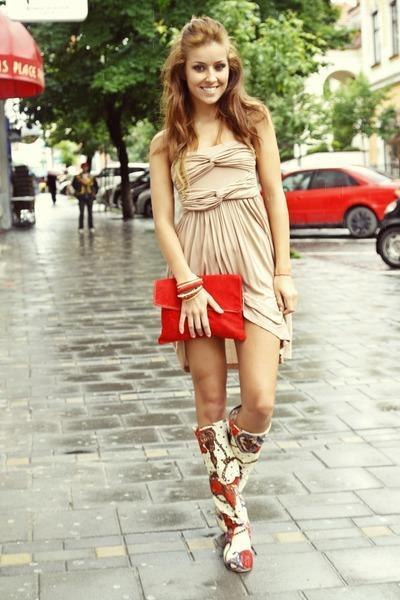bag: (154, 268, 262, 350)
dress: (165, 131, 278, 324)
shoe: (195, 420, 264, 580)
